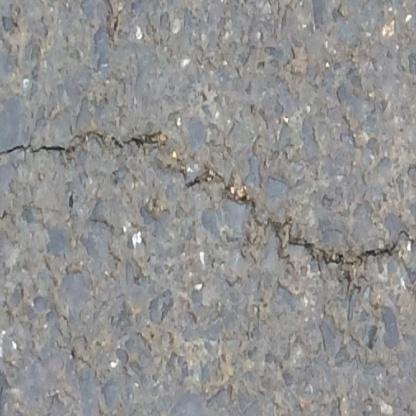Cracks: (212, 169, 416, 294), (0, 126, 167, 170), (182, 173, 205, 192)
